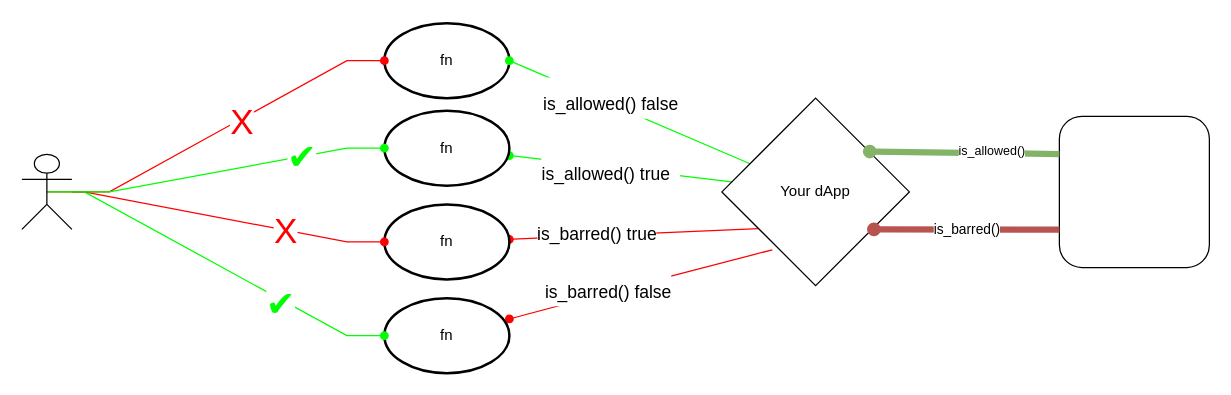
Image size: 1231x395. Some labels were removed from this diagram. Here are the shapes that lost their labels. From the top down, the centre of each, then its label:
the point at 46,191: User
the point at 1133,191: OpenRoles
